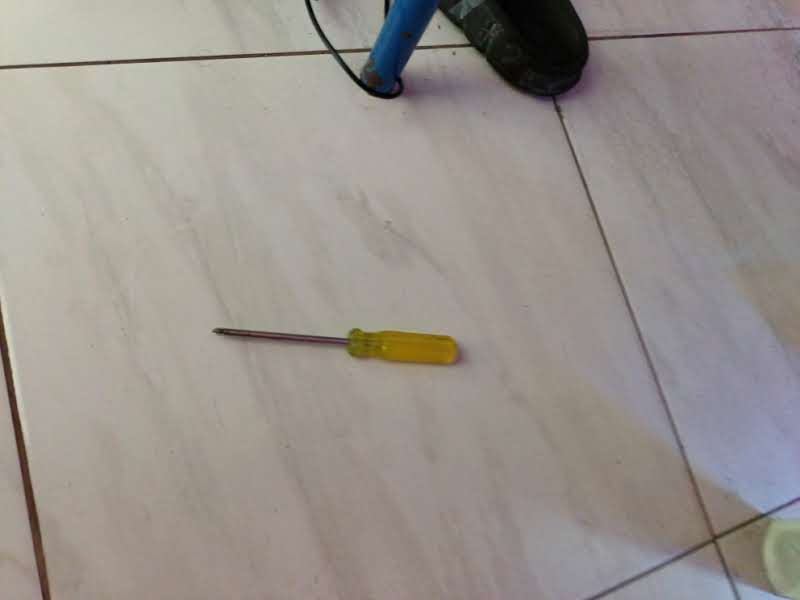Destornillador: (213, 328, 457, 364)
